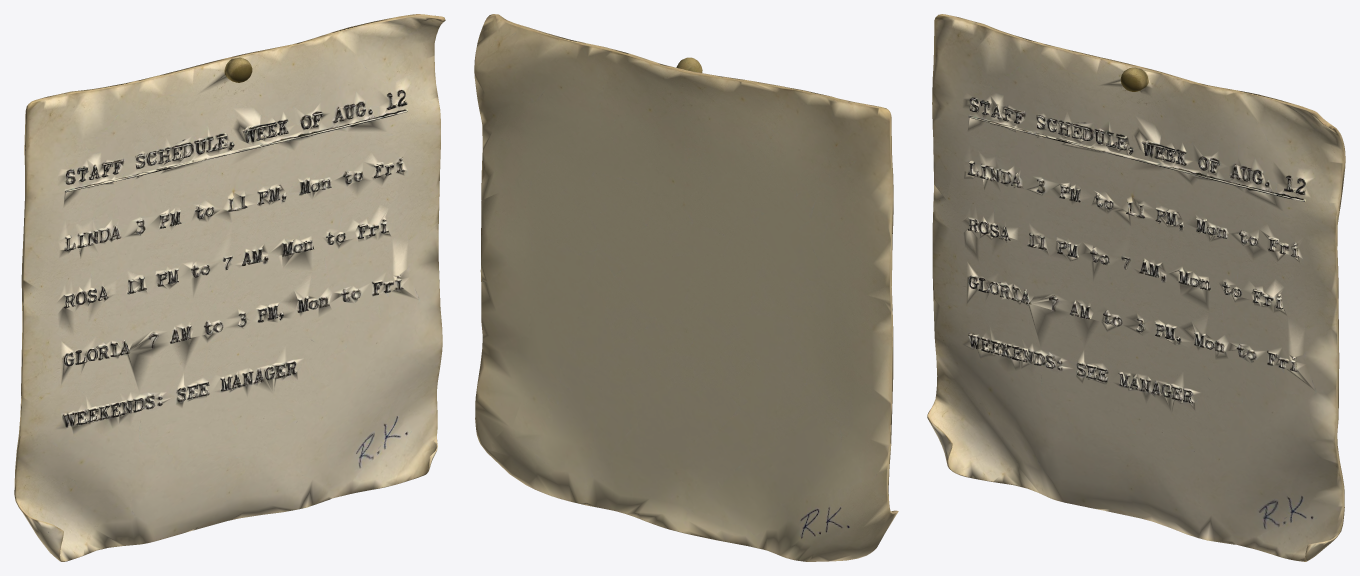
File: schedule.glb
3 views of the same model, side by side, from view 1: azimuth 30°, elevation 25°; view 2: azimuth 150°, elevation 25°; view 3: azimuth 330°, elevation 25° (orthographic). The views are drawn at different scales.
Size of the model in its own units: 1.77 by 1.9 by 0.1559.
1 material, 1 textured.
